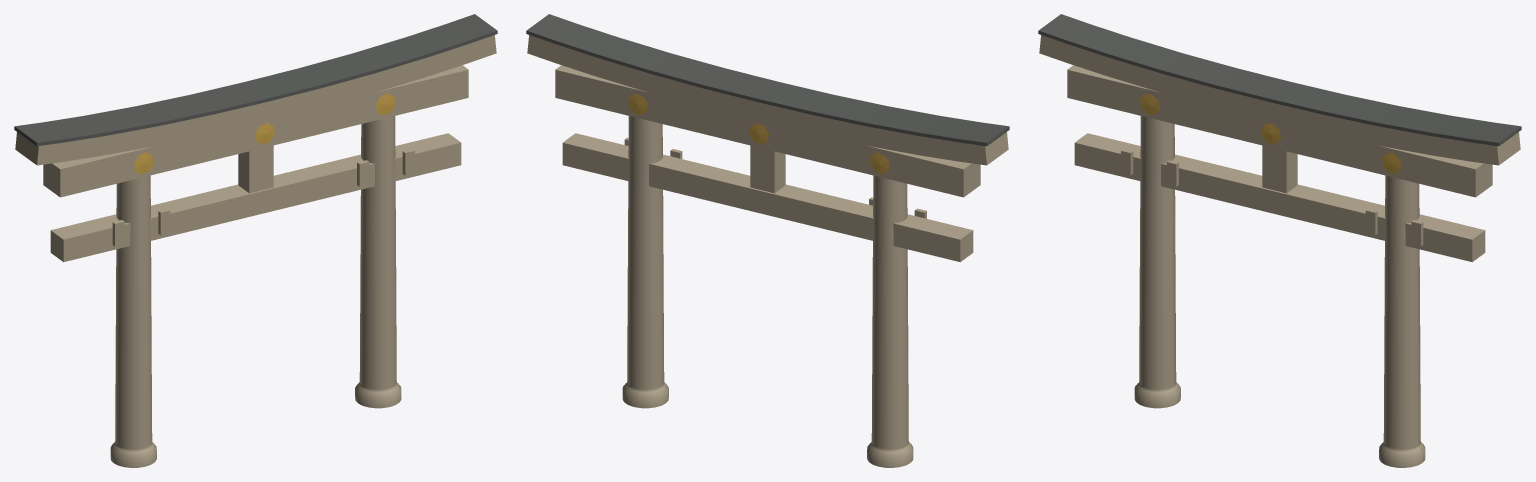
File: tokyo-meiji-jingu-otorii.detail.glb
3 renders of one model, left to right at view 1: azimuth 30°, elevation 25°; view 2: azimuth 150°, elevation 25°; view 3: azimuth 330°, elevation 25°, orthographic.
Visible parts, largest first — view 1: Meiji Jingu Ōtorii; view 2: Meiji Jingu Ōtorii; view 3: Meiji Jingu Ōtorii.
Part boxes in pixels (left/top/right/bottom): Meiji Jingu Ōtorii: left=14, top=14, right=497, bottom=467; Meiji Jingu Ōtorii: left=526, top=14, right=1009, bottom=467; Meiji Jingu Ōtorii: left=1038, top=14, right=1521, bottom=467.
Bounding box in the file's own units: 17.15 × 12.44 × 1.5.
